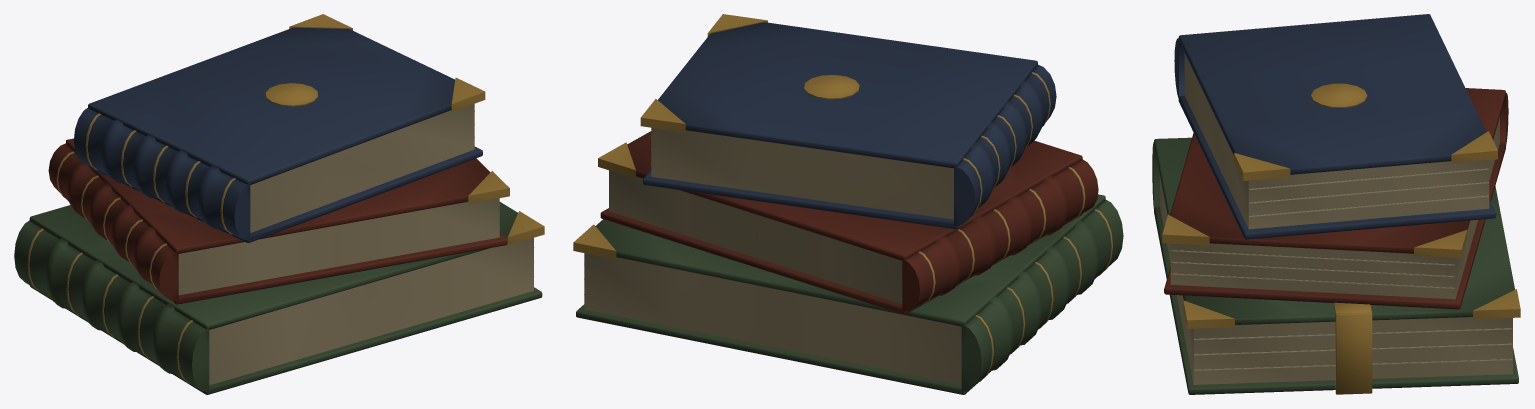
File: atlases.glb
The picture shows the model from 3 angles, left to right: view 1: azimuth 30°, elevation 25°; view 2: azimuth 150°, elevation 25°; view 3: azimuth 270°, elevation 25°; orthographic projection. The views are drawn at different scales.
Parts seen in each view (by area): view 1: base; view 2: base; view 3: base.
Part boxes in pixels (x1,y1,x2,y2): base: (14,14,544,394); base: (573,14,1123,394); base: (1152,14,1520,394).
Size of the model in its own units: 0.2885 by 0.1425 by 0.222.
